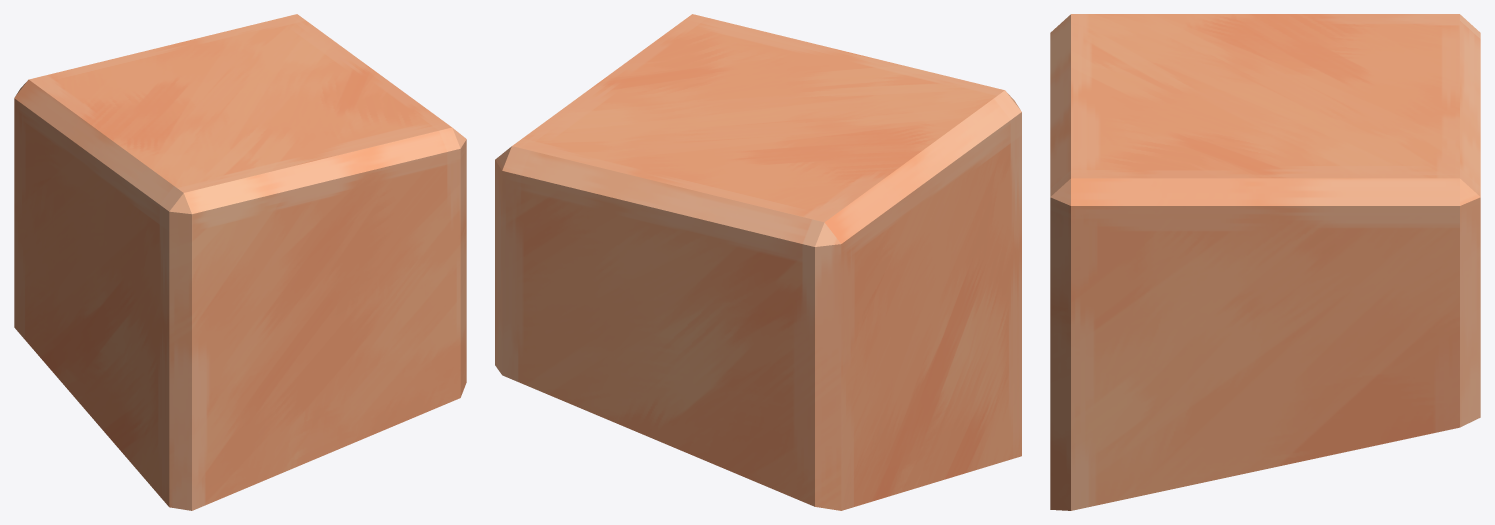
File: parapet_corner_s00.fbx
3 renders of one model, left to right at view 1: azimuth 30°, elevation 25°; view 2: azimuth 150°, elevation 25°; view 3: azimuth 270°, elevation 25°, orthographic. The views are drawn at different scales.
Visible parts, largest first — view 1: parapet_corner_s00; view 2: parapet_corner_s00; view 3: parapet_corner_s00.
Part boxes in pixels (x1=…): parapet_corner_s00: x1=14, y1=14, x2=466, y2=510; parapet_corner_s00: x1=495, y1=14, x2=1021, y2=510; parapet_corner_s00: x1=1050, y1=14, x2=1480, y2=510.
Bounding box in the file's own units: 1.44 × 1.44 × 1.44.
